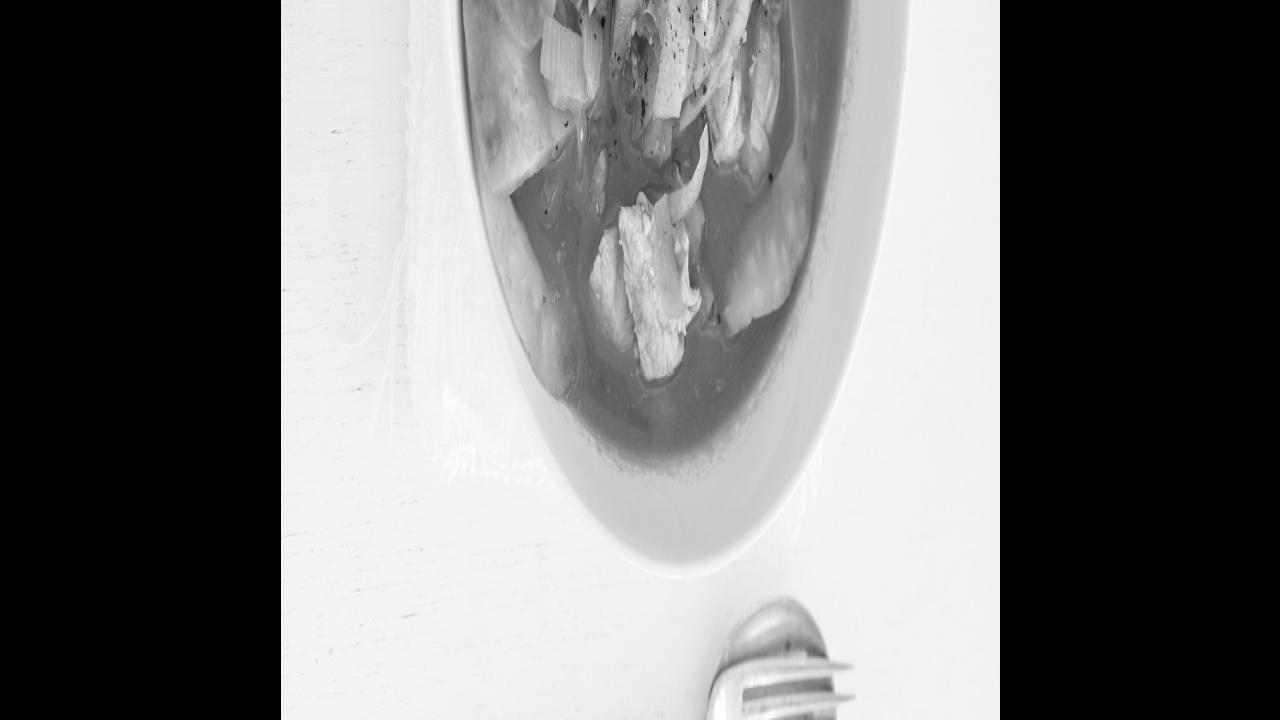fork: (456, 638, 858, 720)
